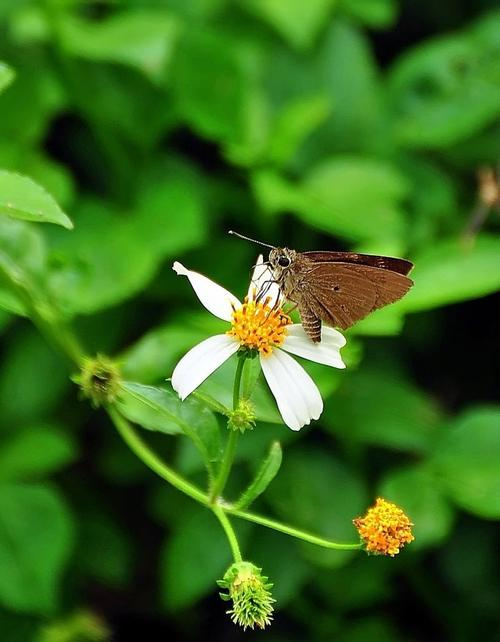Hesperiidae: (227, 223, 412, 336)
